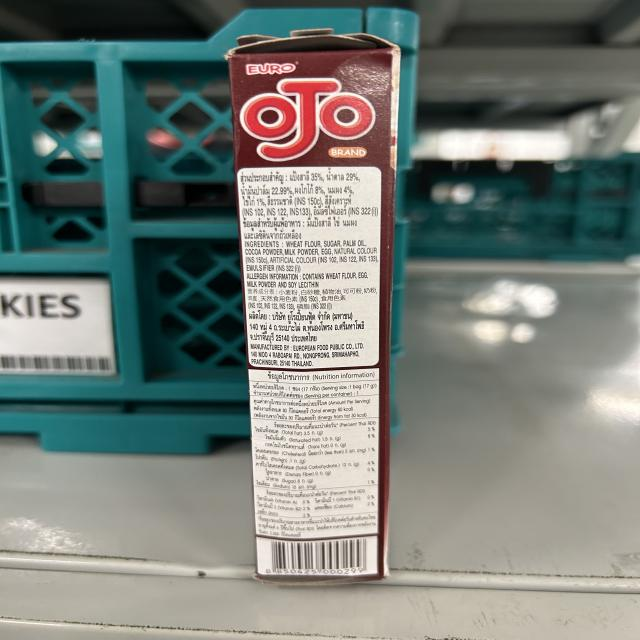object_name: (239, 45, 387, 577)
